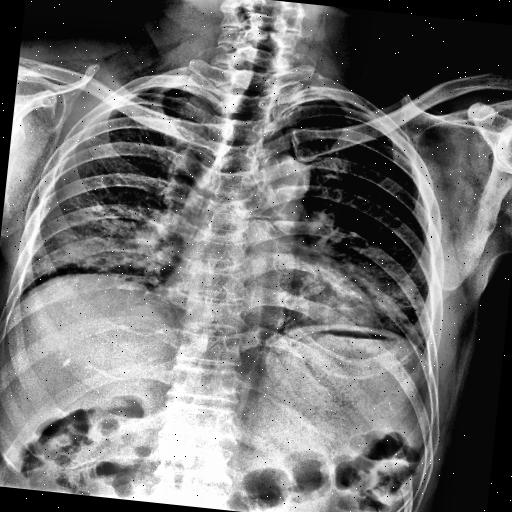0- Aortic enlargement: (248, 150, 316, 233), (248, 153, 310, 199)
13- Pulmonary fibrosis: (40, 228, 158, 278)
3- Cardiomegaly: (161, 266, 386, 328)
6- Infiltration: (27, 218, 174, 283)
7- Lung Opacity: (52, 193, 176, 284), (27, 218, 174, 283), (348, 260, 430, 338), (40, 228, 158, 278)
